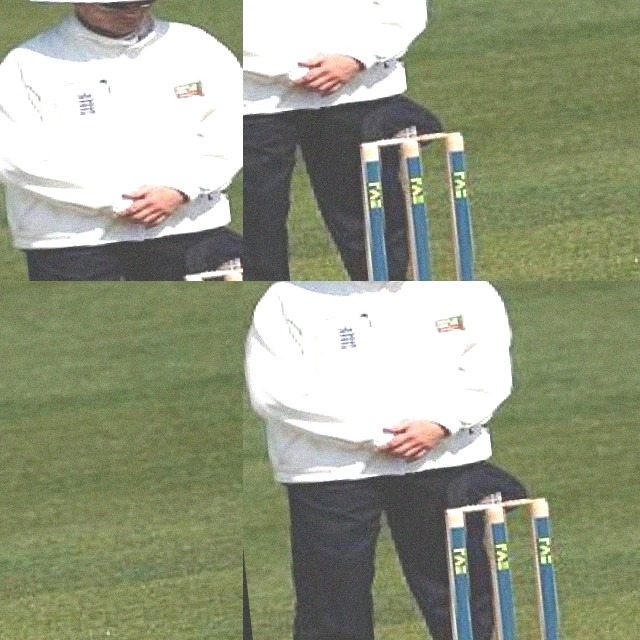No_Action: (243, 281, 565, 640)
No_Ball: (0, 281, 243, 640), (0, 0, 243, 281)
